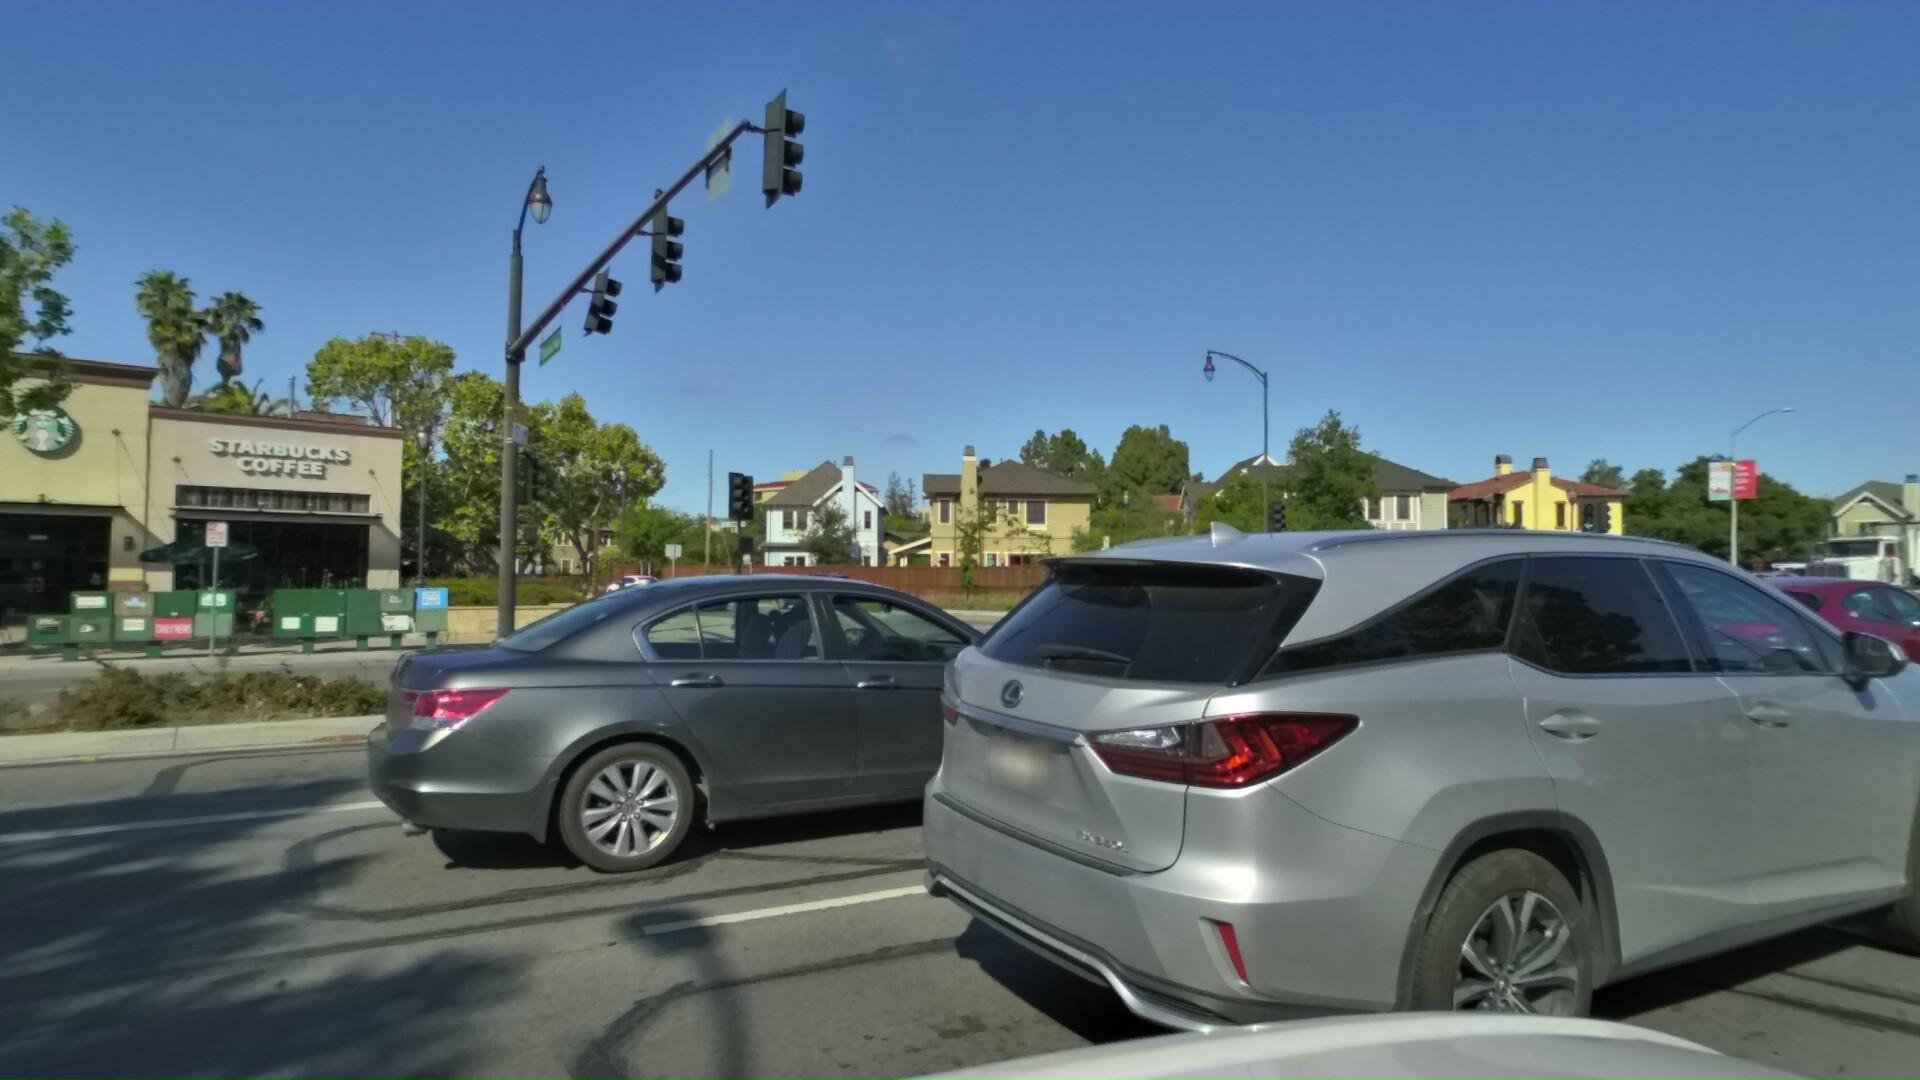bicycle: (133, 553, 222, 636)
car: (894, 448, 1920, 1080), (359, 539, 1218, 918), (1619, 566, 1920, 740), (1451, 555, 1626, 649), (1687, 560, 1815, 615), (1745, 547, 1859, 604), (757, 568, 849, 605), (647, 572, 728, 609), (592, 574, 663, 601), (1902, 556, 1920, 620)
truck: (1759, 498, 1920, 618)
